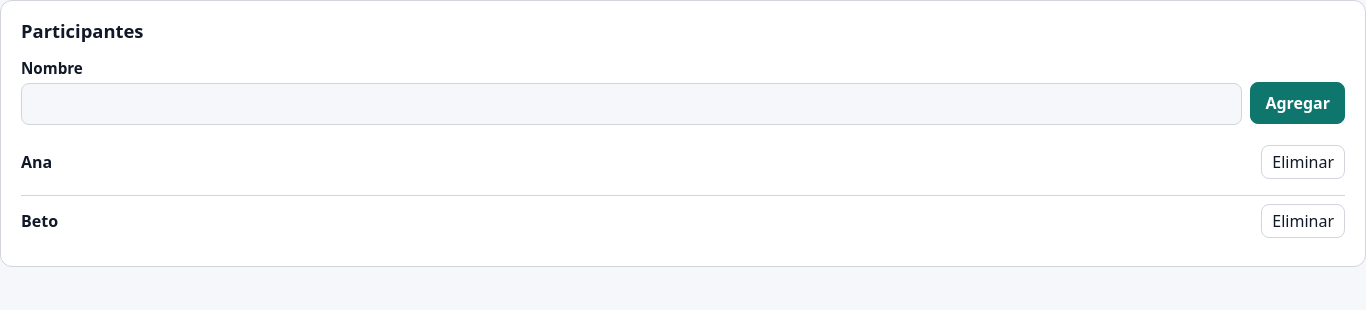
Test case: ParticipantsPanel › clears the error after a valid name
The width and height of the screenshot is (1366, 310).
Step 1. Click the button "Agregar" → {"x": 1298, "y": 103}, box [1250,82,1345,124]
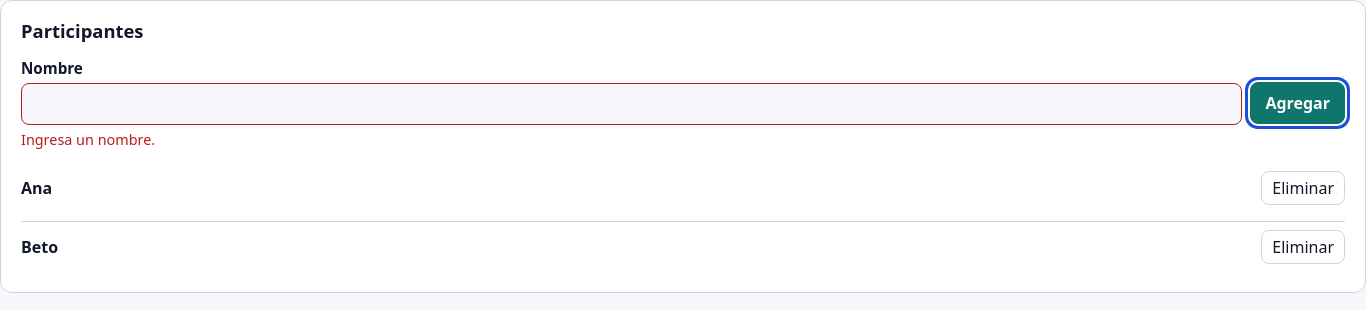
Step 2. Type "Caro" into the field labelled "Nombre" → {"x": 632, "y": 104}, box [21,83,1242,125]
Then press Enter
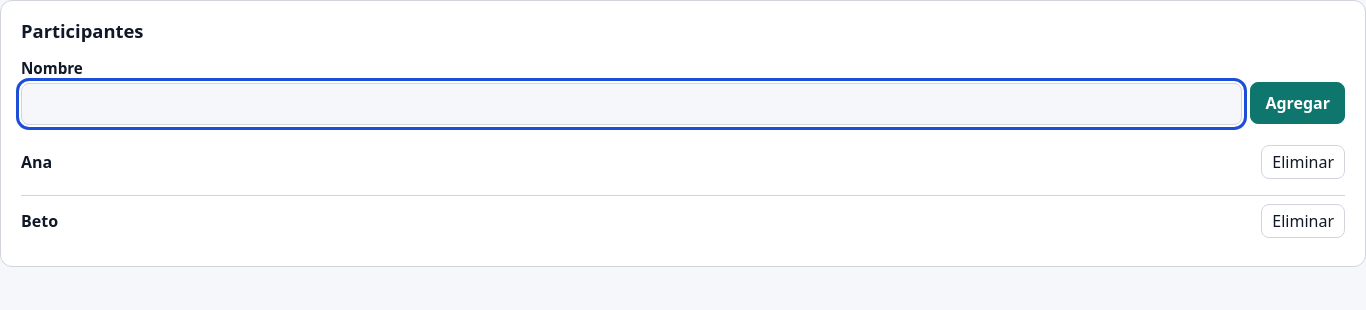
expect the text "Ingresa un nombre." is gone: met
